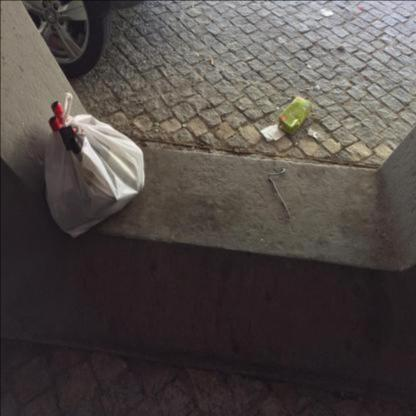Bottle: (296, 68, 300, 73), (238, 126, 242, 131), (308, 64, 312, 68), (196, 52, 200, 56), (154, 122, 158, 126), (182, 124, 187, 127)
Bottle cap: (51, 102, 63, 124), (68, 137, 82, 154), (48, 116, 62, 132)
Carton: (278, 95, 311, 135)
Other litter: (268, 166, 290, 217)
Paper: (260, 124, 286, 141), (307, 128, 318, 139), (336, 44, 346, 50)
Plastic bag - wrapper: (45, 92, 145, 238), (59, 126, 76, 150)
Unlabeled litter: (359, 6, 365, 10)
